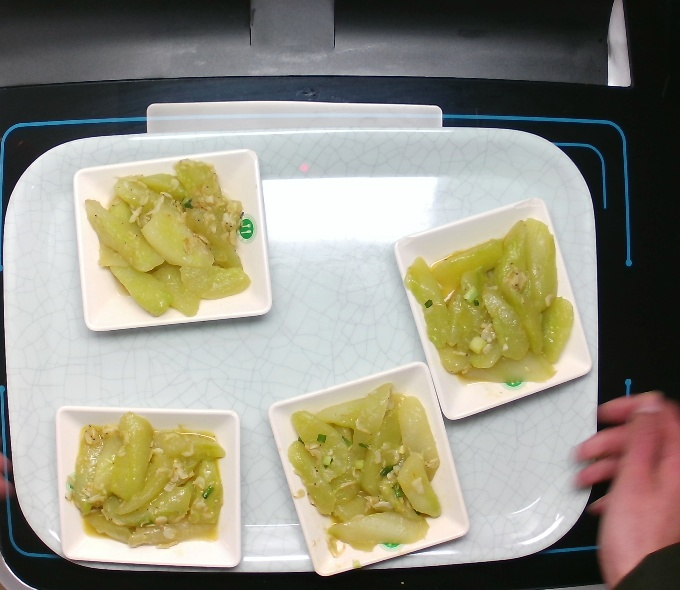wcq-HuangGua: (398, 212, 579, 391), (81, 154, 261, 323), (284, 377, 451, 559), (56, 412, 236, 554)
